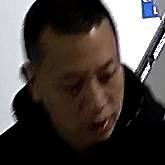qg: (15, 15, 143, 143)
